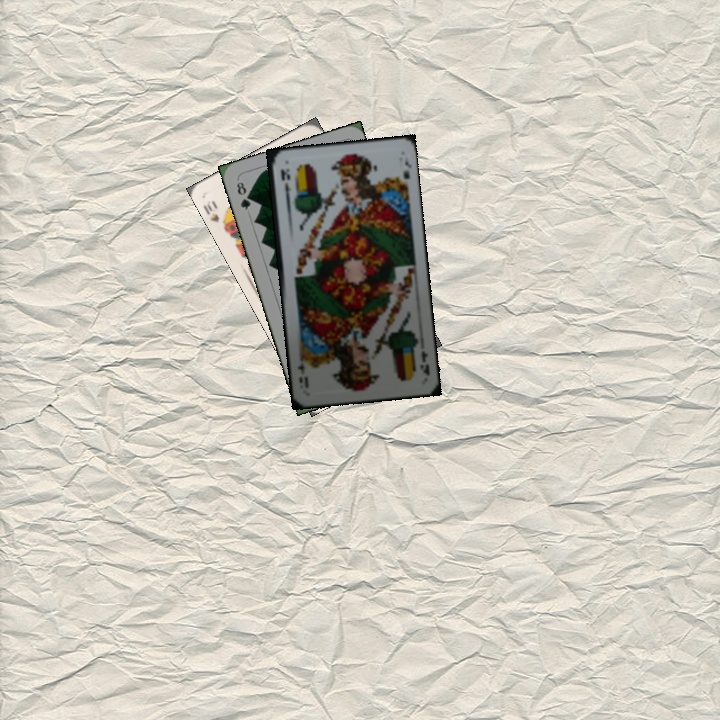EK: (277, 165, 292, 204), (416, 346, 432, 378)
G8: (232, 177, 253, 213)
S10: (199, 196, 231, 231)
